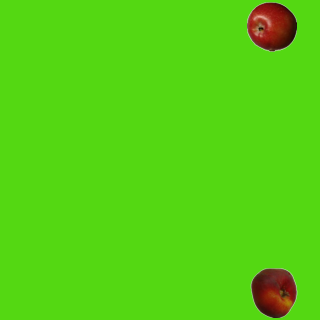Apple Braeburn: (246, 1, 296, 51)
Nectarine Flat: (248, 267, 298, 317)
